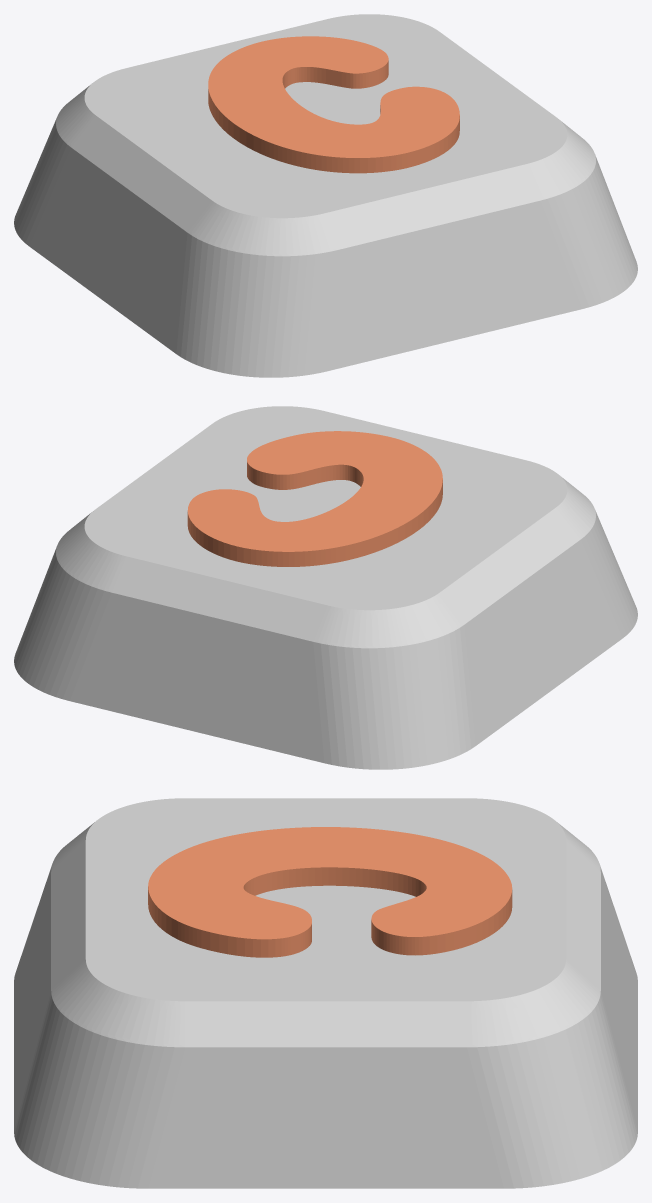
File: cap-C.glb
The picture shows the model from 3 angles, top to bottom: view 1: azimuth 30°, elevation 25°; view 2: azimuth 150°, elevation 25°; view 3: azimuth 270°, elevation 25°; orthographic projection. The views are drawn at different scales.
Visible parts, largest first — view 1: cap_0, glyph_1; view 2: cap_0, glyph_1; view 3: cap_0, glyph_1.
Boxes of the visible parts, x1,y1,x2,y2 form: cap_0: [14, 14, 637, 377]; glyph_1: [208, 36, 459, 173]; cap_0: [14, 406, 637, 769]; glyph_1: [187, 431, 442, 566]; cap_0: [14, 798, 637, 1188]; glyph_1: [148, 827, 512, 957].
Bounding box in the file's own units: 18 × 5.59 × 18.
